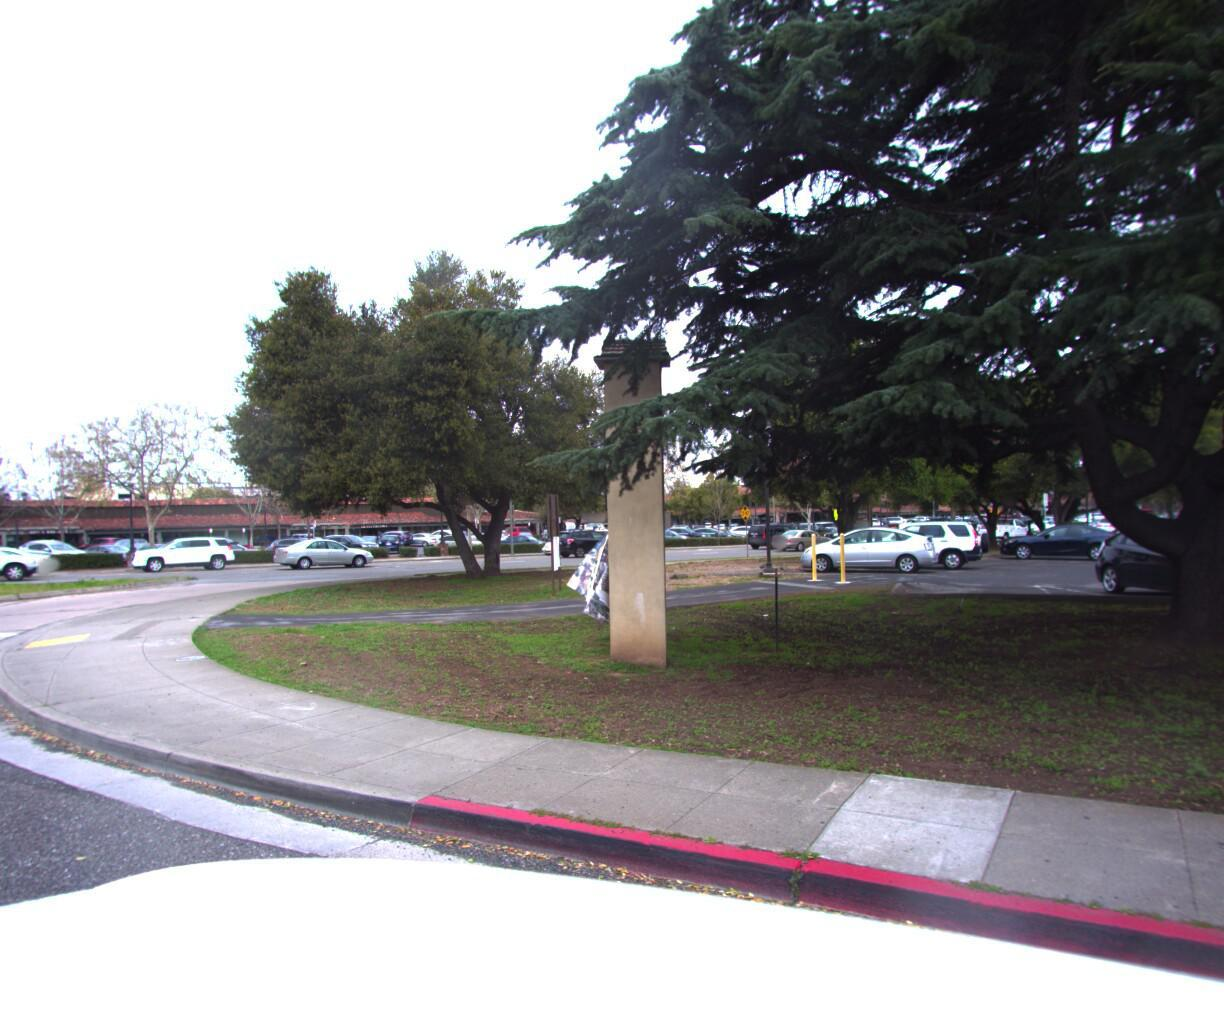car: (130, 532, 242, 573), (276, 537, 381, 571), (553, 527, 634, 559), (745, 522, 809, 548), (769, 529, 835, 553), (541, 529, 602, 554), (974, 513, 1031, 539), (432, 530, 494, 552)
